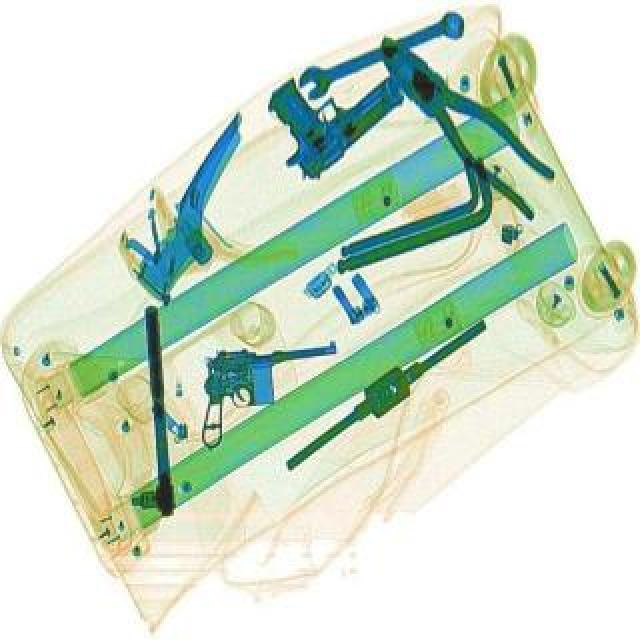gun: (240, 28, 414, 186), (188, 336, 346, 448)
scissors: (294, 6, 468, 98)
wrench: (360, 24, 572, 220)
